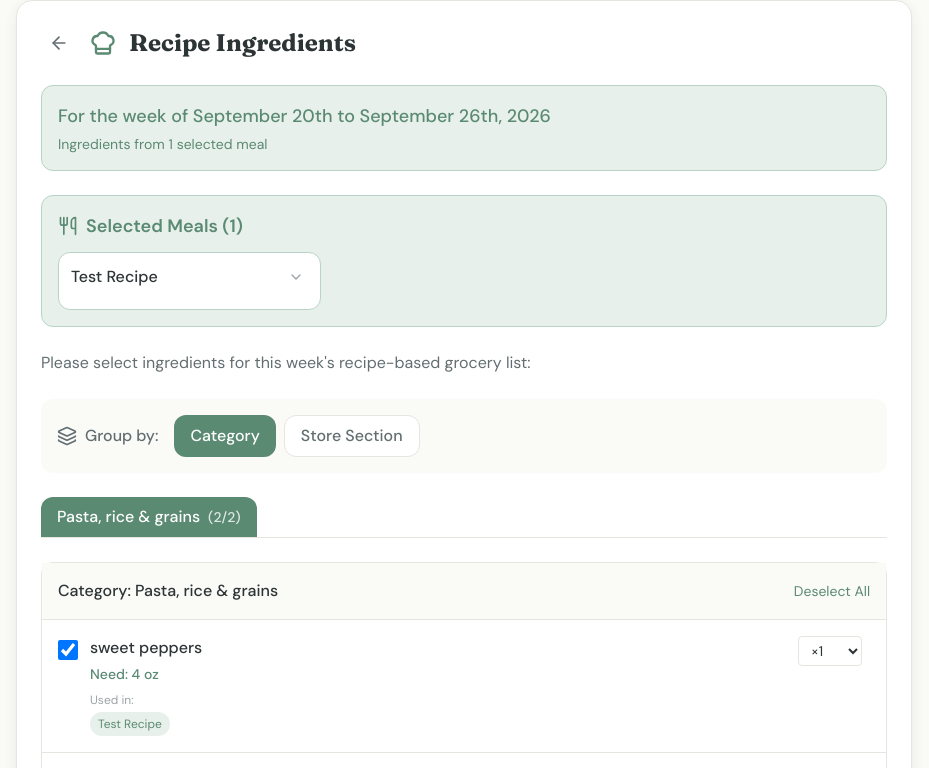
RecipeIngredients — slice 1 shows the recipe need › x3 reads as three times the need
Expected: the heading "sweet peppers" is shown, [90, 637, 202, 658]
Select "×3" in the dropdown at (830, 651), box [798, 636, 862, 666]
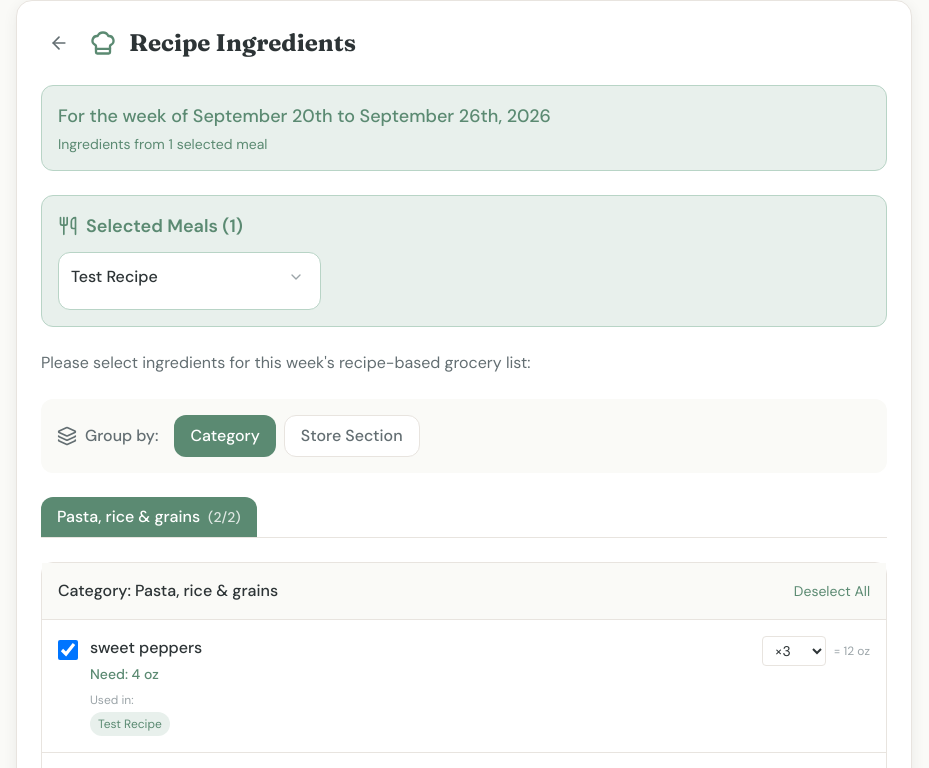
Expected: the text "= 12 oz" is shown, [834, 643, 870, 659]
